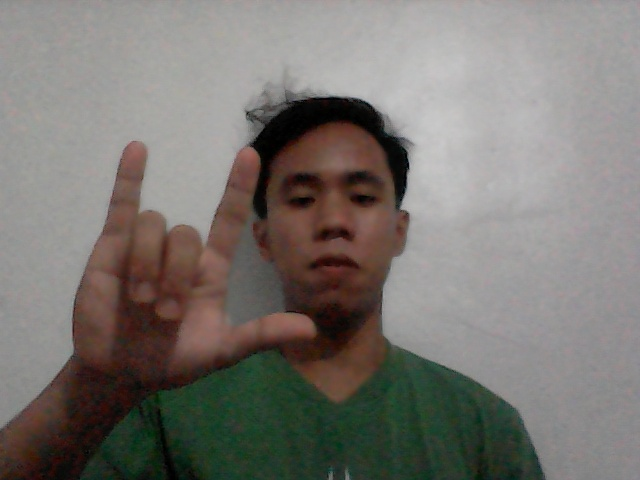I Love You: (36, 112, 325, 402)
